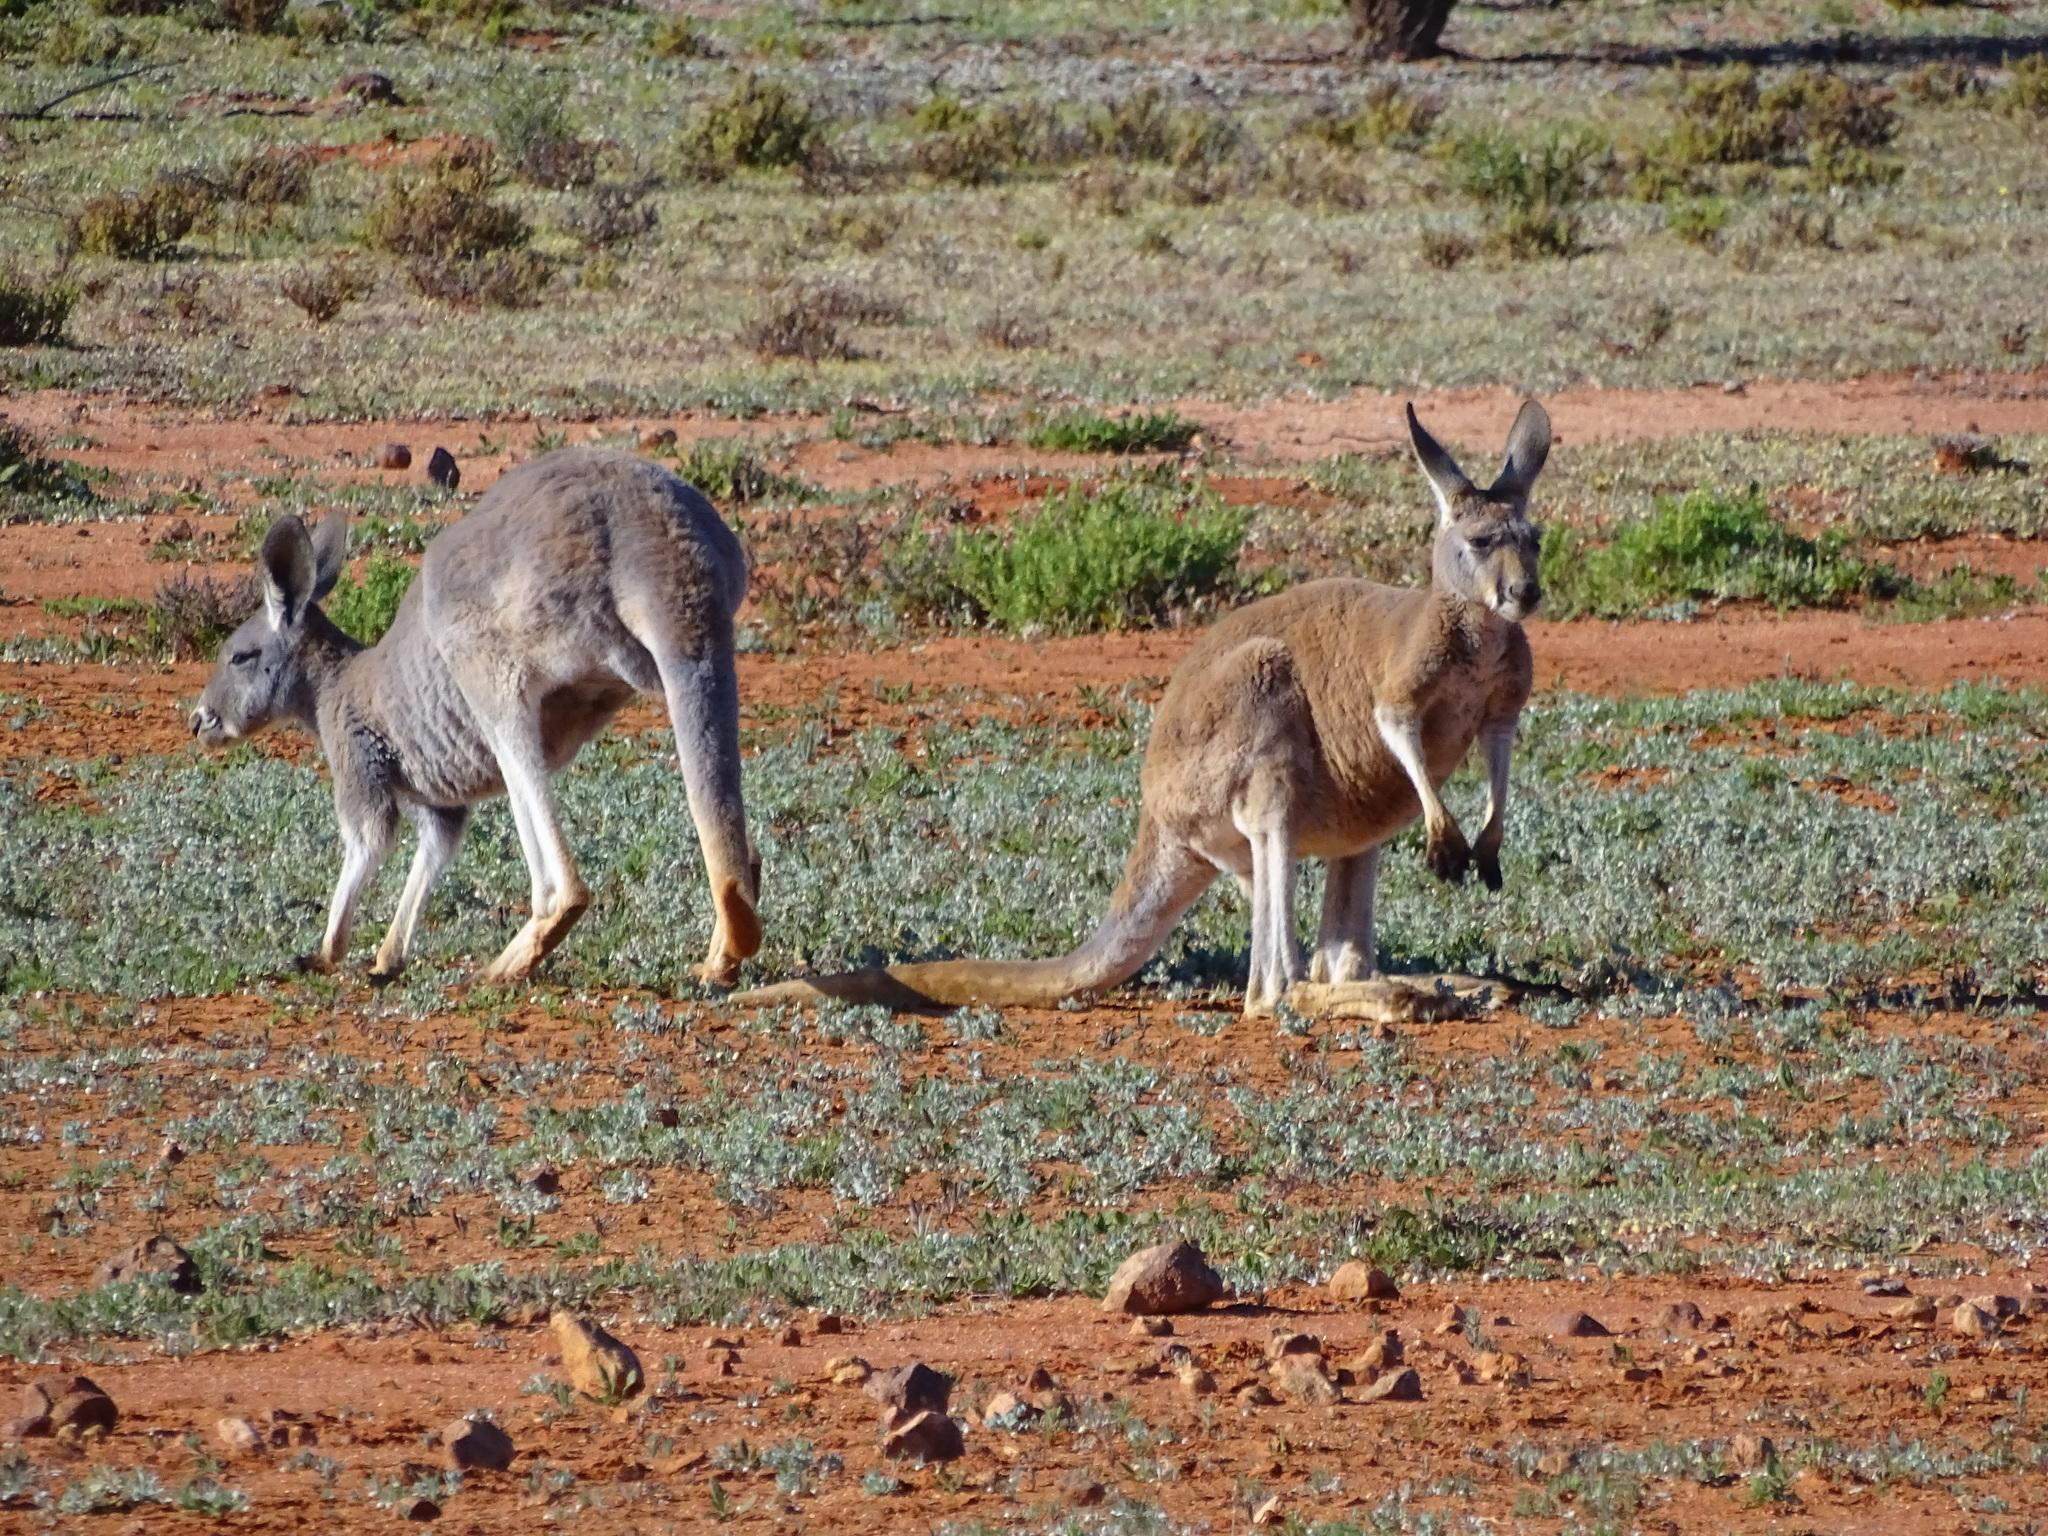Red kangaroo: (703, 397, 1564, 1033), (185, 450, 764, 986)
